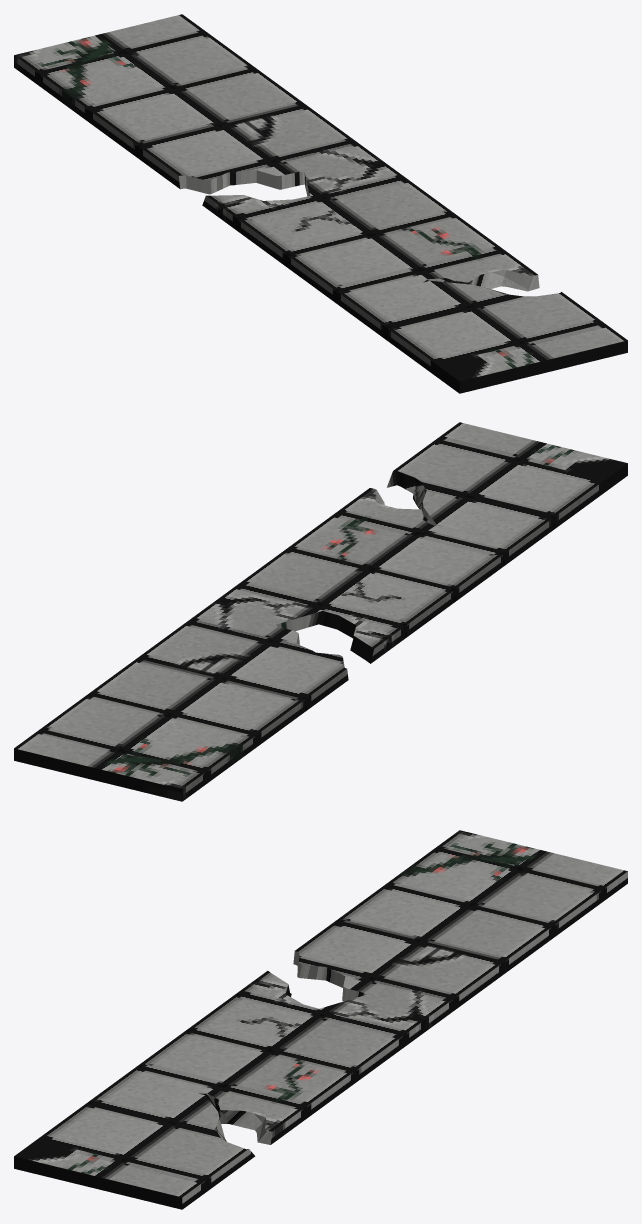
File: Floor_Tiles_Broken.fbx
3 views of the same model, one above another, from view 1: azimuth 30°, elevation 25°; view 2: azimuth 150°, elevation 25°; view 3: azimuth 330°, elevation 25° (orthographic).
Visible parts, largest first — view 1: Plane.001; view 2: Plane.001; view 3: Plane.001.
Boxes of the visible parts, left/top/right/bottom form: Plane.001: left=14, top=14, right=627, bottom=393; Plane.001: left=14, top=422, right=627, bottom=801; Plane.001: left=14, top=830, right=627, bottom=1209.
Bounding box in the file's own units: 410 × 28.77 × 1880.
Materials: 1 (1 with a texture image).
